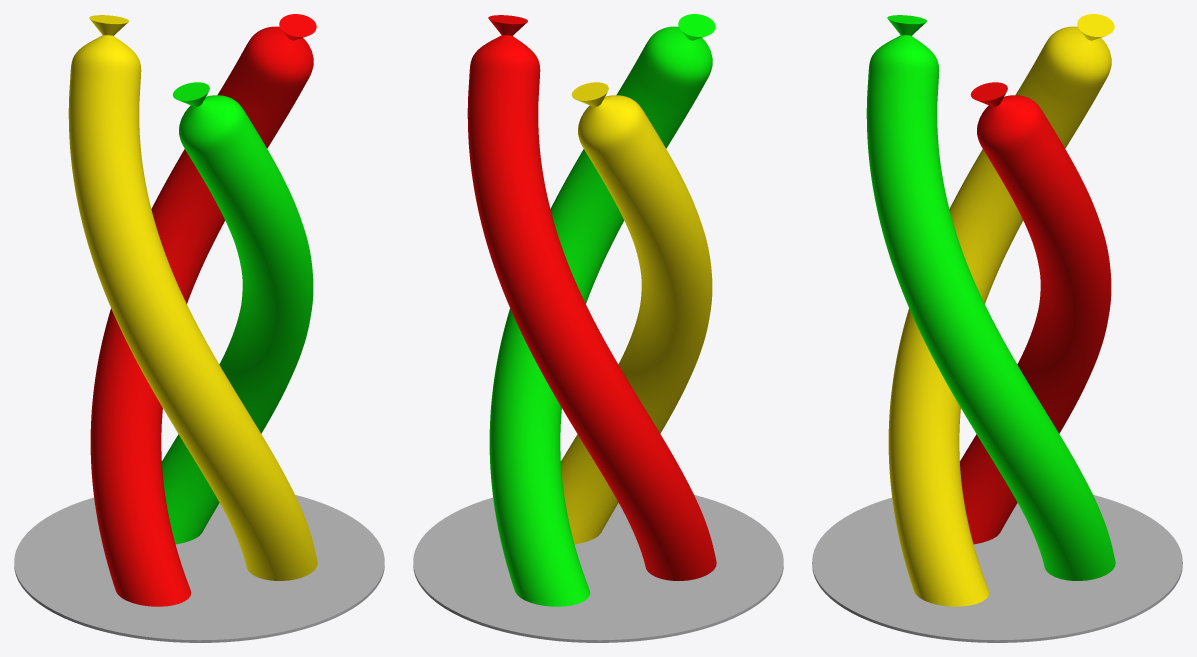
File: baloons.fbx
3 renders of one model, left to right at view 1: azimuth 30°, elevation 25°; view 2: azimuth 150°, elevation 25°; view 3: azimuth 270°, elevation 25°, orthographic.
Visible parts, largest first — view 1: Cylinder010, Cylinder011, Circle002, Cylinder012; view 2: Cylinder011, Cylinder012, Circle002, Cylinder010; view 3: Cylinder012, Cylinder010, Circle002, Cylinder011.
Boxes of the visible parts, x1,y1,x2,y2 form: Cylinder010: (68,15,317,580); Cylinder011: (90,14,316,606); Circle002: (14,495,384,642); Cylinder012: (162,82,313,544); Cylinder011: (467,15,716,580); Cylinder012: (489,14,715,606); Circle002: (413,495,783,642); Cylinder010: (561,82,712,544); Cylinder012: (866,15,1115,580); Cylinder010: (888,14,1114,606); Circle002: (812,495,1182,642); Cylinder011: (960,82,1111,544).
Size of the model in its own units: 120 by 187 by 120.
